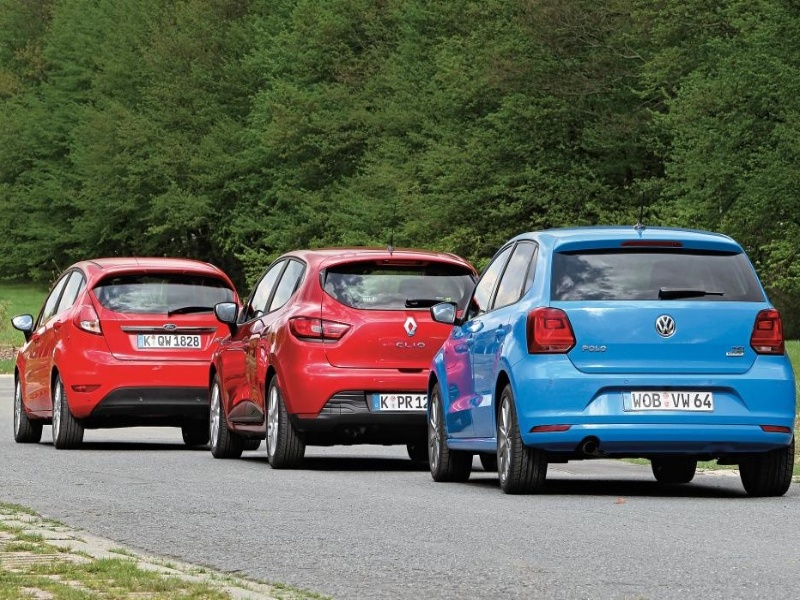car: (426, 225, 796, 491), (208, 248, 481, 468), (11, 258, 240, 449)
plate: (623, 391, 712, 411), (373, 393, 427, 411), (136, 334, 200, 349)
